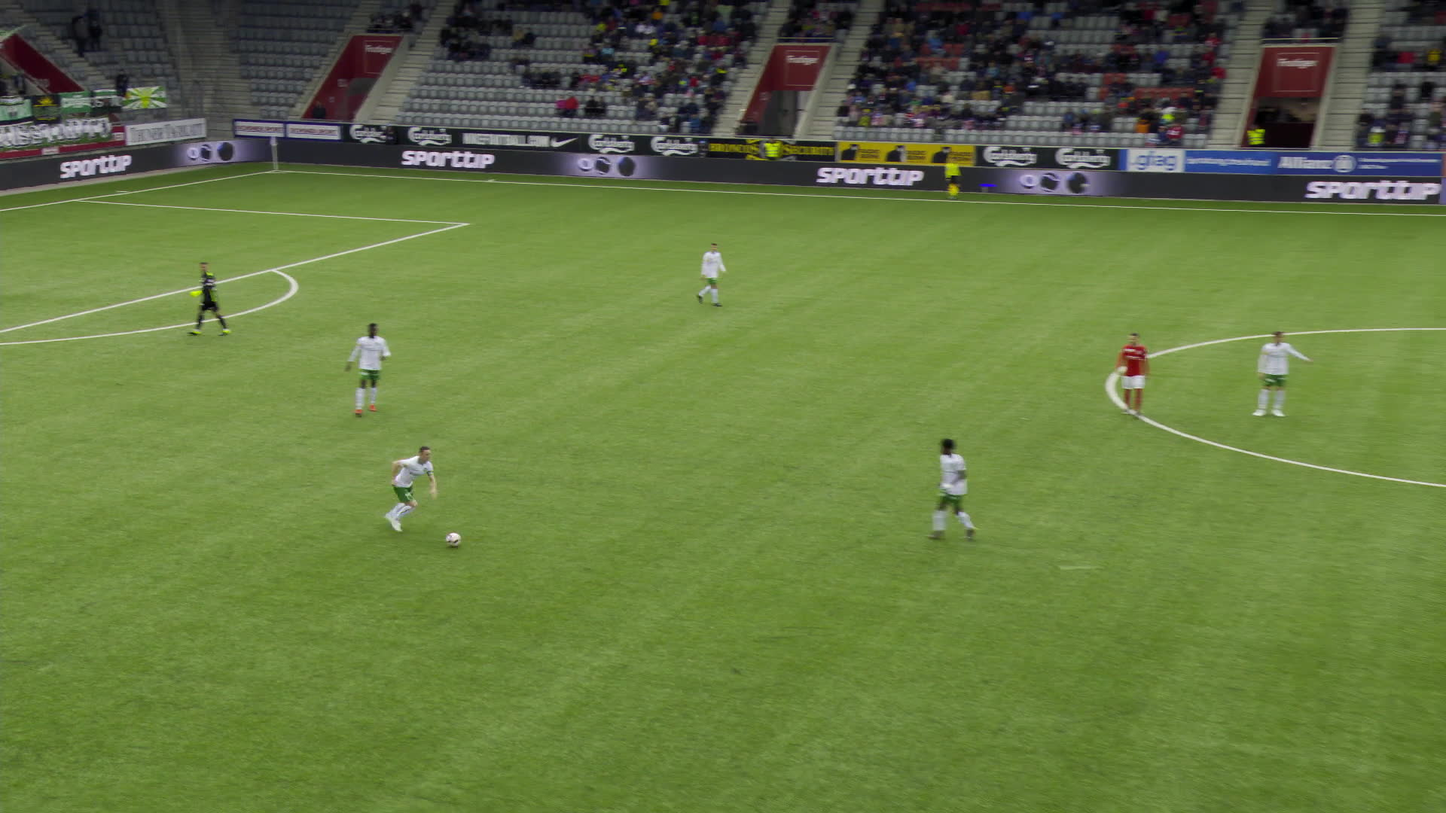ball: (446, 531, 463, 547)
player: (1256, 329, 1323, 420), (379, 444, 439, 534), (932, 436, 981, 545), (350, 321, 399, 416), (189, 258, 237, 340), (1124, 332, 1163, 422), (696, 241, 729, 306)
referee: (942, 154, 966, 201)
